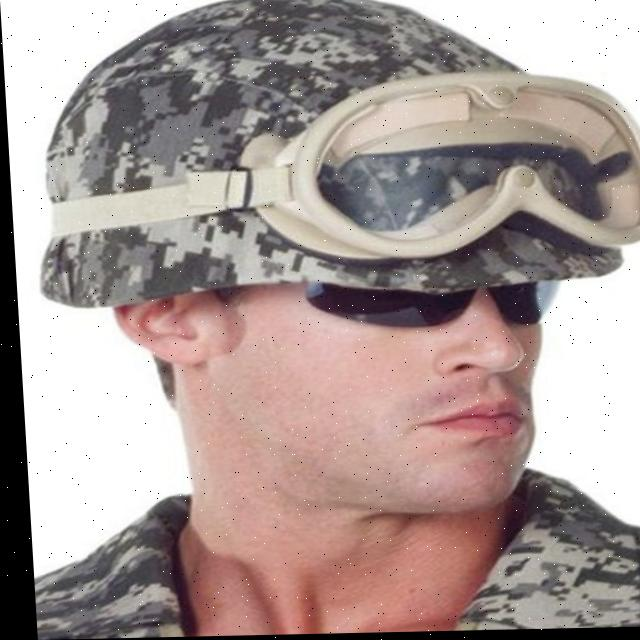illegal_helmet: (10, 0, 640, 536)
